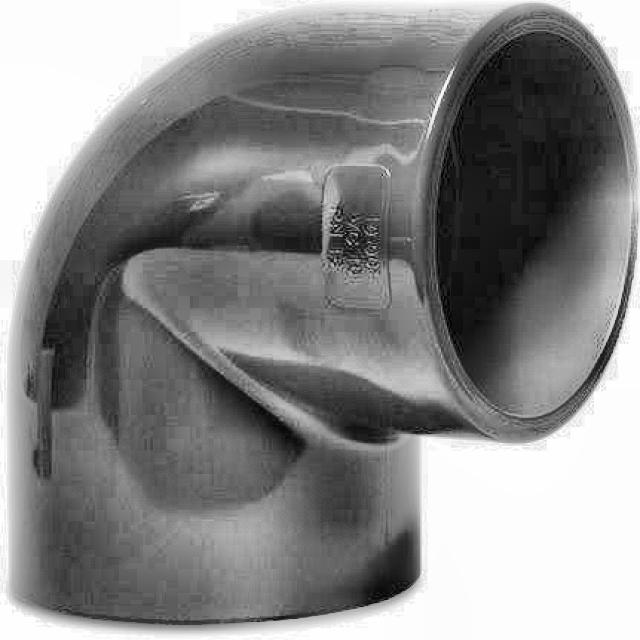ELBOW90: (1, 0, 640, 640)
